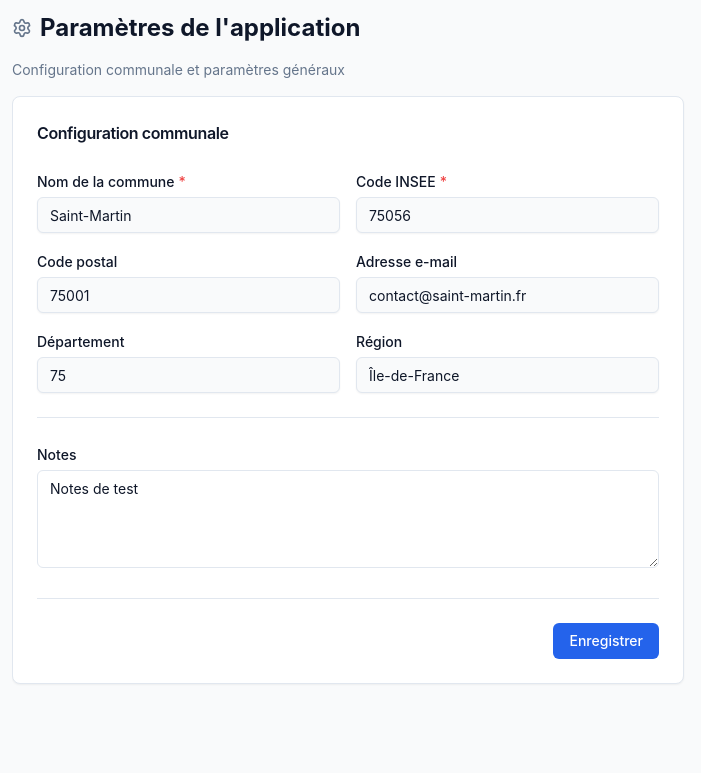
Test: Commune Settings - ParametresPage › met à jour une commune existante et affiche un message de succès
The width and height of the screenshot is (701, 773).
Replace the text in the field showing "Saint-Martin" with "Saint-Martin Modifié" at (188, 215), box [37, 197, 340, 233]
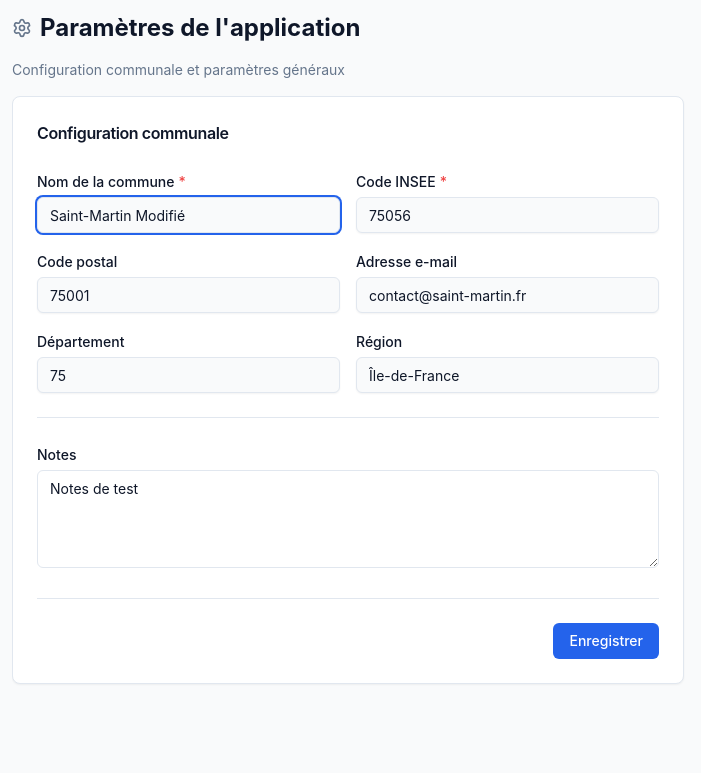
Click the button "Enregistrer" at (606, 641), box [554, 623, 659, 659]
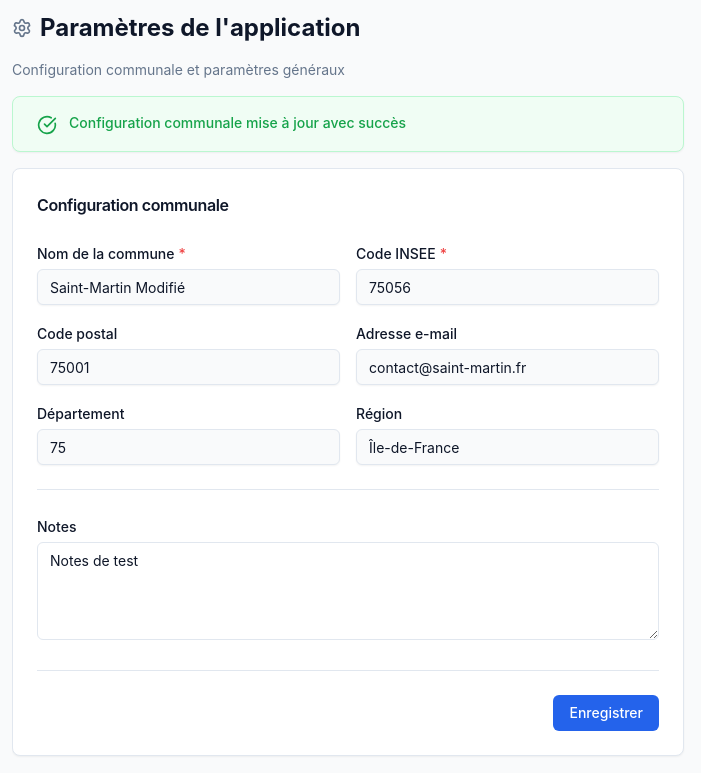
Expected: the text "Configuration communale mise à jour avec succès" is shown, [69, 114, 406, 131]
